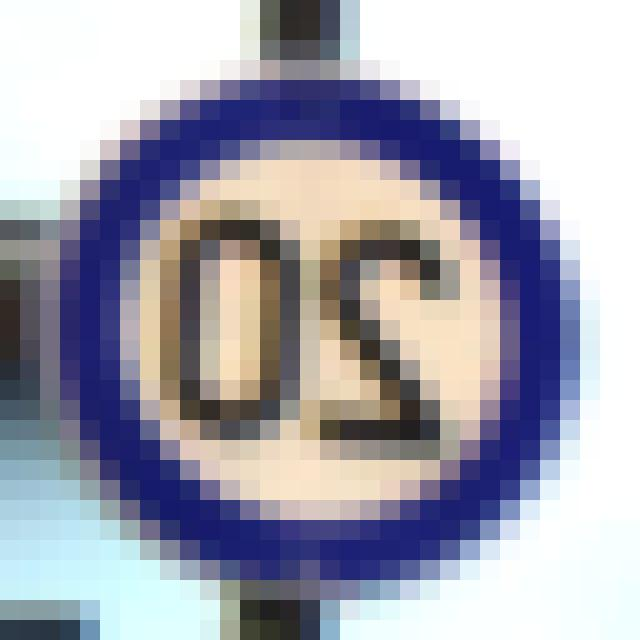SPEED LIMIT 20: (52, 79, 576, 579)
